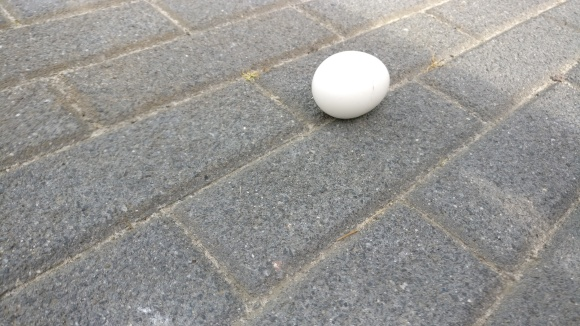egg: (311, 51, 390, 120)
